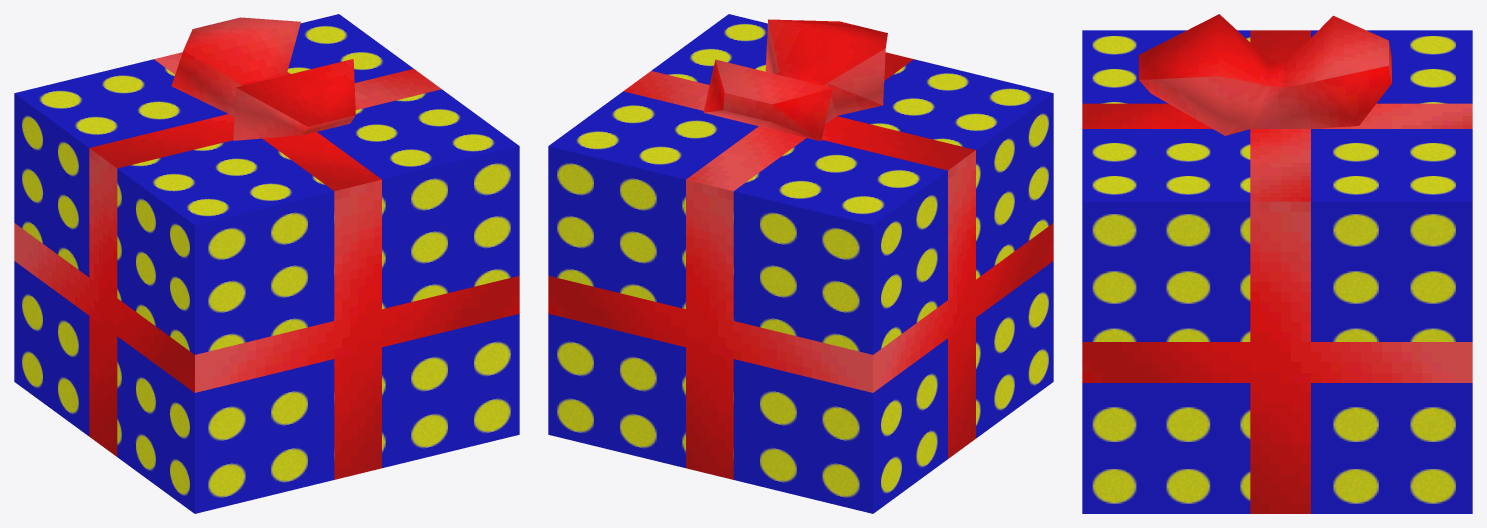
The model's file is presentsm.glb.
3 views of the same model, side by side, from view 1: azimuth 30°, elevation 25°; view 2: azimuth 150°, elevation 25°; view 3: azimuth 270°, elevation 25° (orthographic). The views are drawn at different scales.
Visible parts, largest first — view 1: presentsm; view 2: presentsm; view 3: presentsm.
Part boxes in pixels (x1,y1,x2,y2): presentsm: (14,14,519,513); presentsm: (548,14,1053,513); presentsm: (1082,14,1472,513).
Bounding box in the file's own units: 25.62 × 26.73 × 24.66.
2 materials, 2 textured.
